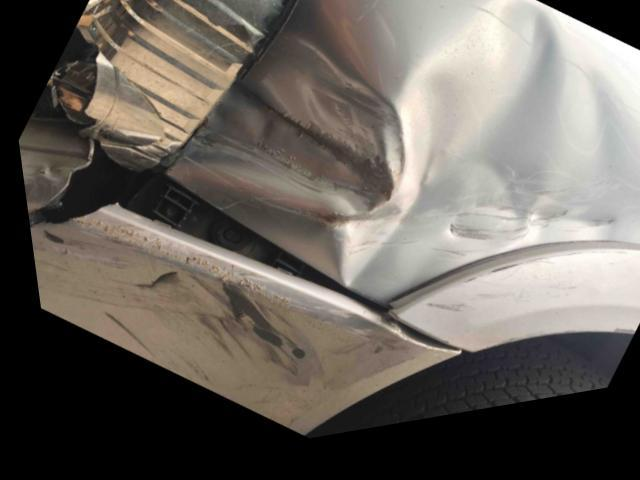crack: (22, 144, 106, 227)
dent: (167, 14, 640, 310)
lamp broken: (24, 0, 297, 176)
scratch: (25, 225, 312, 399), (418, 270, 572, 329)
